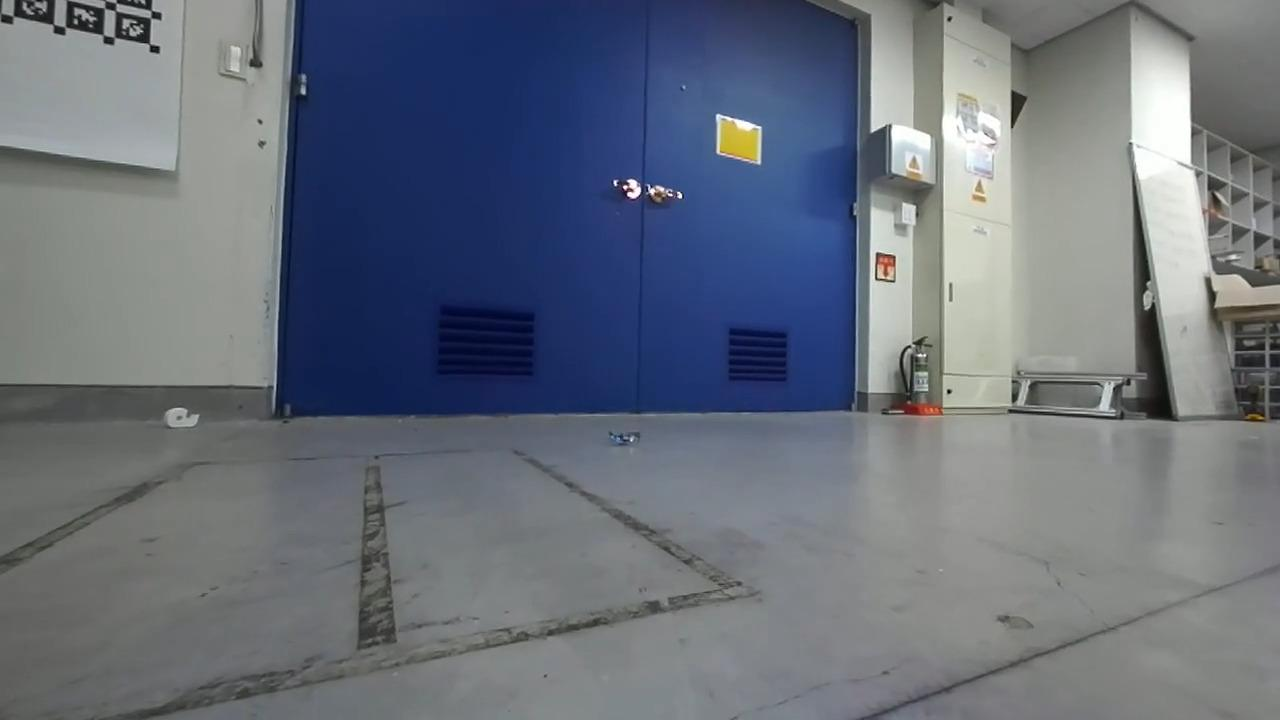crazyflie: (596, 425, 651, 451)
